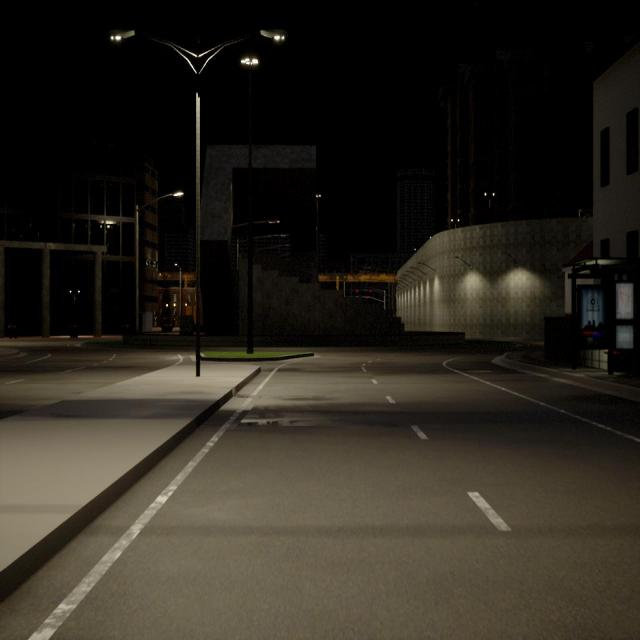traffic_light: (369, 290, 372, 292), (366, 296, 368, 299), (356, 290, 358, 292)
